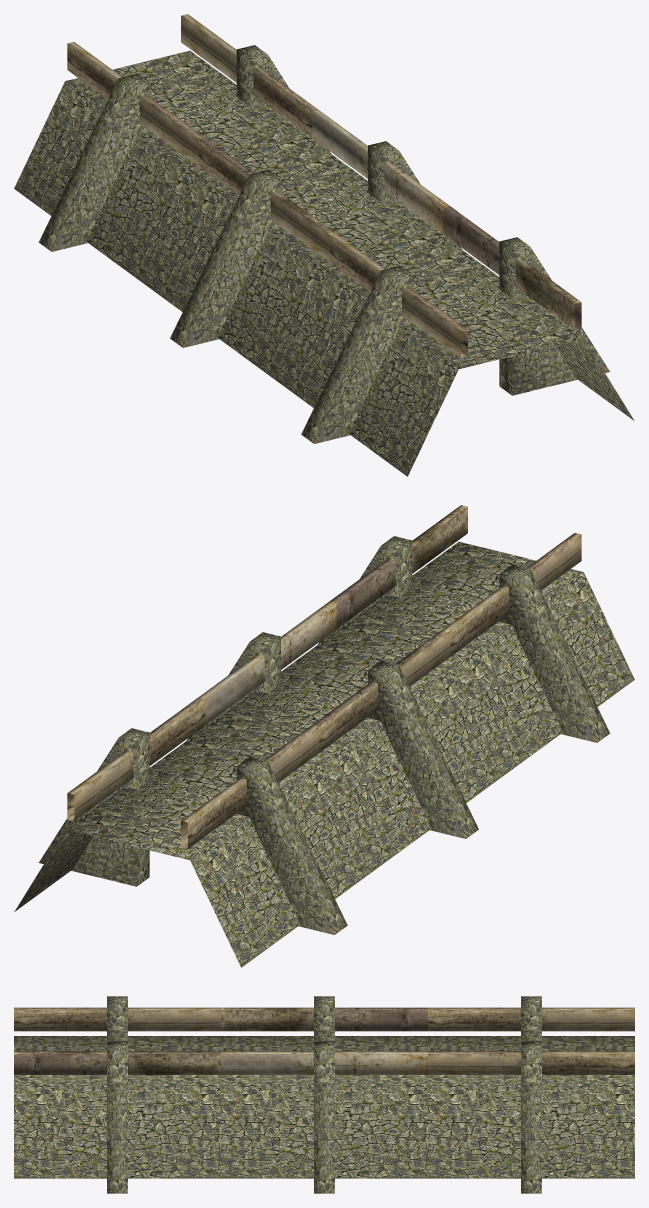
The model's file is I-Tile.fbx.
3 renders of one model, top to bottom at view 1: azimuth 30°, elevation 25°; view 2: azimuth 150°, elevation 25°; view 3: azimuth 270°, elevation 25°, orthographic. The views are drawn at different scales.
Parts seen in each view (by area): view 1: I-Tile; view 2: I-Tile; view 3: I-Tile.
Part boxes in pixels (x1,y1,x2,y2): I-Tile: [14, 14, 634, 476]; I-Tile: [14, 505, 634, 967]; I-Tile: [14, 996, 634, 1193].
Bounding box in the file's own units: 130 × 60.81 × 300.
